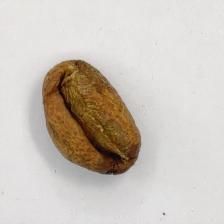NG: (50, 104, 143, 175), (42, 59, 115, 104)
